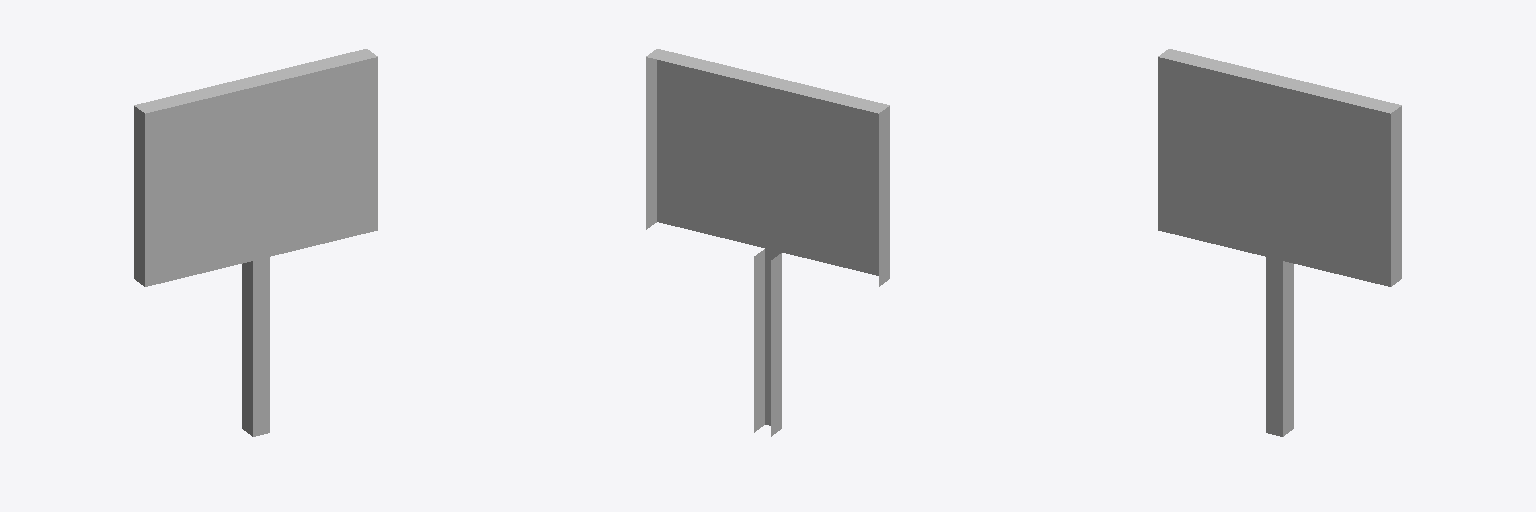
The model's file is sign2.obj.
3 views of the same model, side by side, from view 1: azimuth 30°, elevation 25°; view 2: azimuth 150°, elevation 25°; view 3: azimuth 330°, elevation 25° (orthographic).
Visible parts, largest first — view 1: ent_prop.001; view 2: ent_prop.001; view 3: ent_prop.001.
Boxes of the visible parts, x1,y1,x2,y2 form: ent_prop.001: [134, 49, 377, 436]; ent_prop.001: [646, 49, 889, 436]; ent_prop.001: [1158, 49, 1401, 436].
Size of the model in its own units: 1.05 by 1.51 by 0.0894.